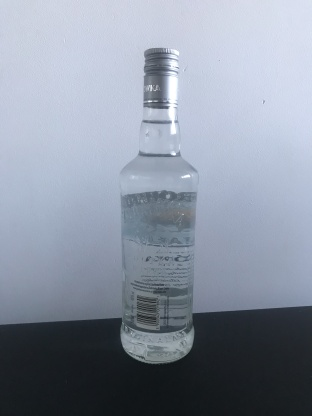nakretka: (142, 44, 181, 112)
